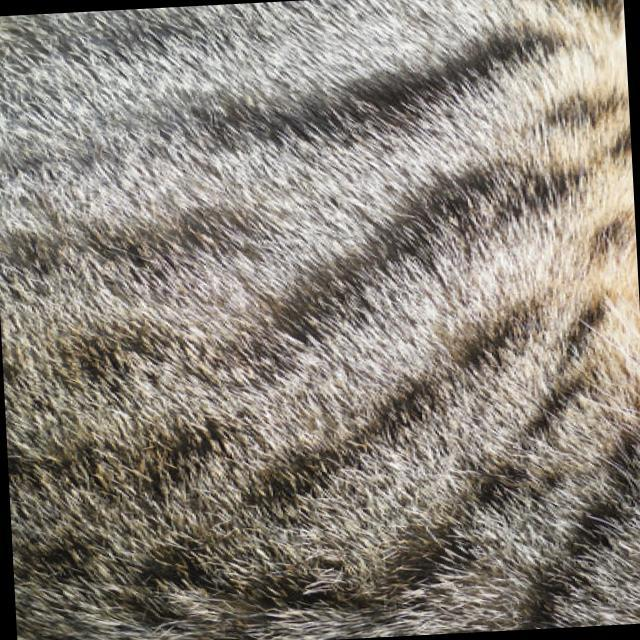Healthy skin: (120, 13, 606, 278), (338, 268, 638, 628), (35, 310, 302, 623)
